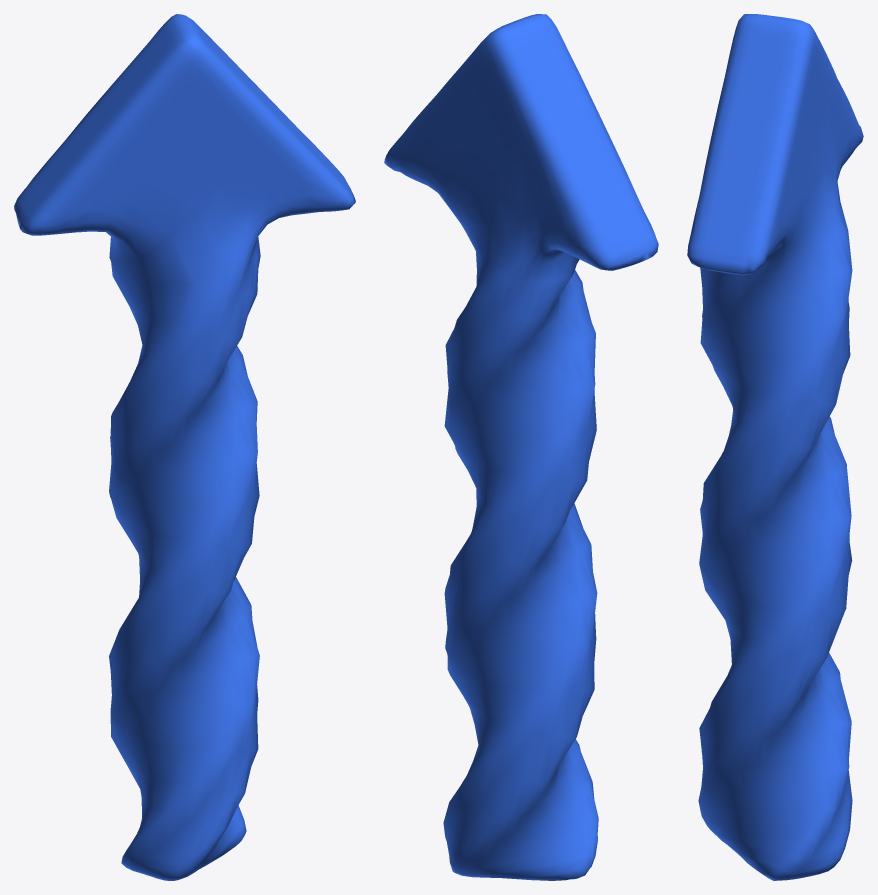
File: arrow 01.fbx
The picture shows the model from 3 angles, left to right: view 1: azimuth 30°, elevation 25°; view 2: azimuth 150°, elevation 25°; view 3: azimuth 270°, elevation 25°; orthographic projection.
Parts seen in each view (by area): view 1: arrow_1; view 2: arrow_1; view 3: arrow_1.
Part boxes in pixels (box(x1,y1,x2,y2)): arrow_1: box(14, 14, 355, 880); arrow_1: box(384, 14, 658, 880); arrow_1: box(687, 14, 863, 880).
Bounding box in the file's own units: 177 × 480 × 91.41.
